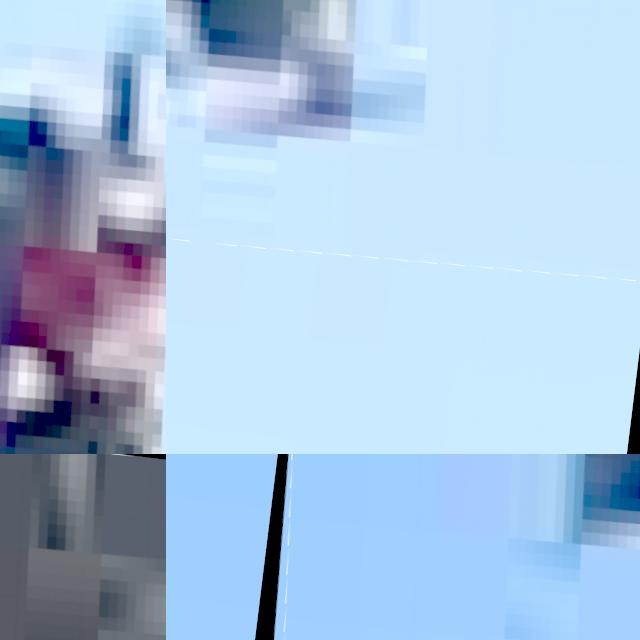drone: (166, 0, 640, 296), (0, 0, 166, 454), (250, 454, 640, 640), (0, 454, 166, 640)
